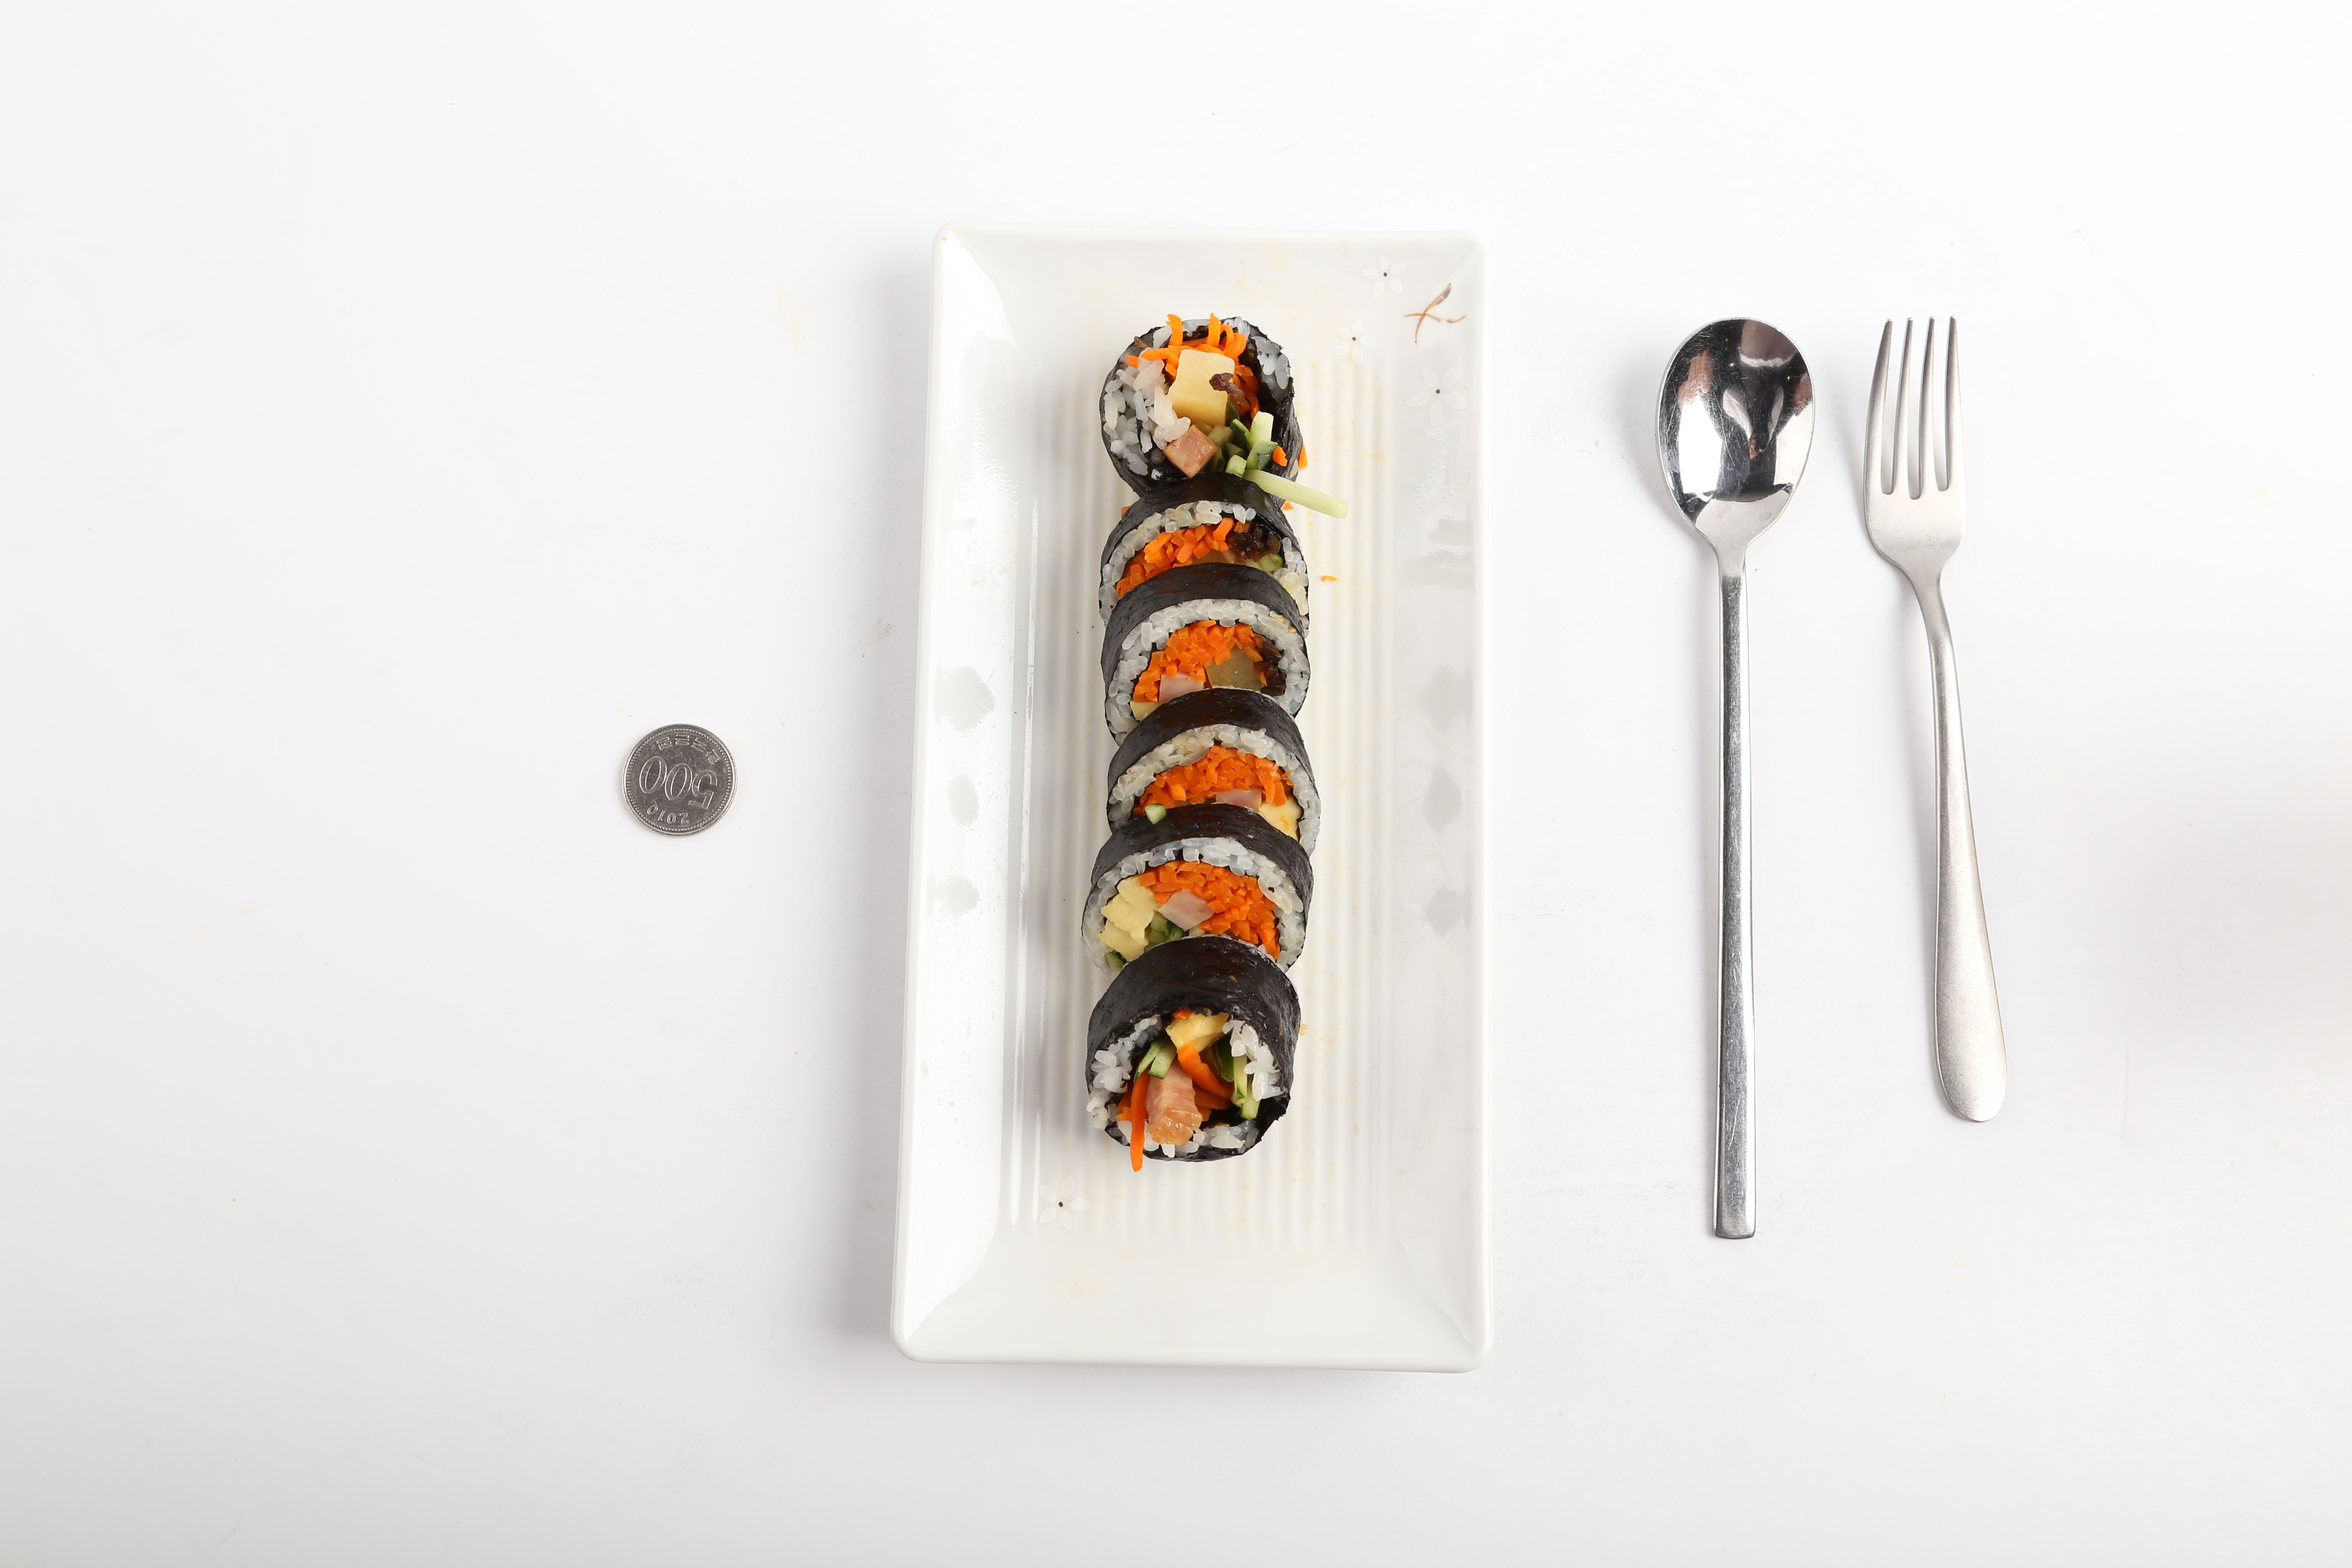dish: (882, 213, 1498, 1374)
ref_coin: (614, 716, 740, 843)
ref_fork: (1860, 317, 1969, 628)
ref_spoon: (1652, 315, 1818, 607)
김밥: (1073, 308, 1316, 1165)
